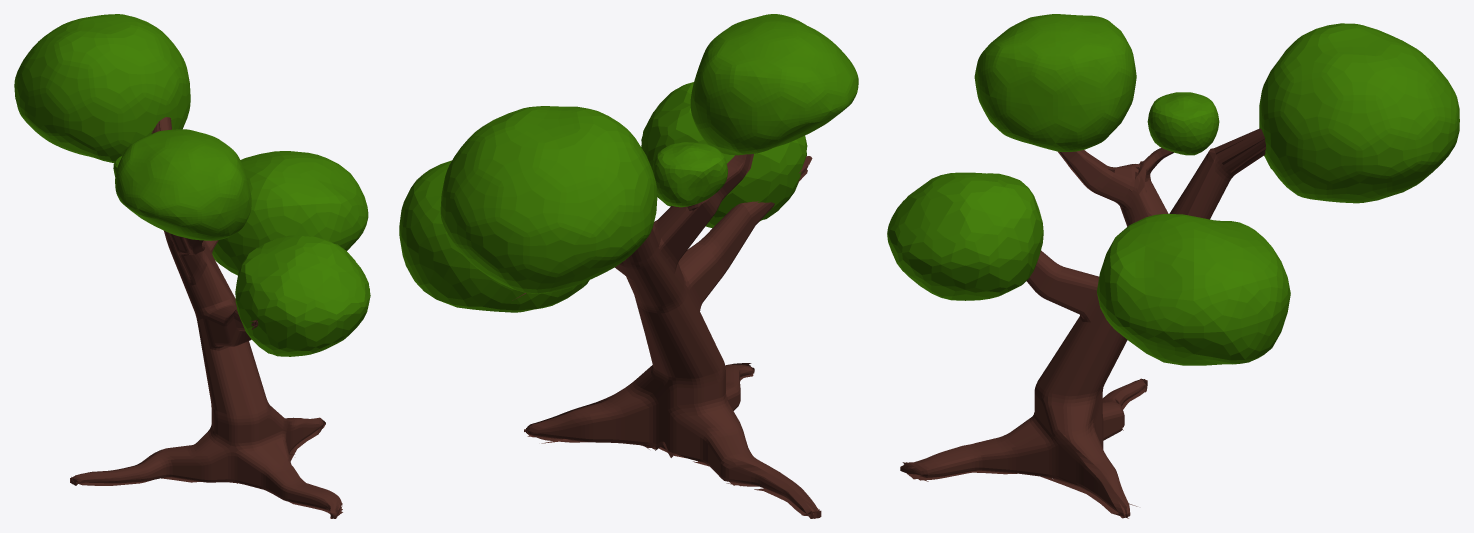
The model's file is arbol_estilizado.fbx.
The picture shows the model from 3 angles, left to right: view 1: azimuth 30°, elevation 25°; view 2: azimuth 150°, elevation 25°; view 3: azimuth 270°, elevation 25°; orthographic projection. The views are drawn at different scales.
Visible parts, largest first — view 1: Circle, Icosphere.004, Icosphere, Icosphere.001, Icosphere.003; view 2: Icosphere.004, Circle, Icosphere.001, Icosphere.003, Icosphere, Icosphere.002; view 3: Circle, Icosphere.004, Icosphere.003, Icosphere.001, Icosphere, Icosphere.002.
Part boxes in pixels (box(x1,y1,x2,y2)): Circle: box(70, 117, 342, 518); Icosphere.004: box(14, 14, 190, 162); Icosphere: box(235, 235, 370, 356); Icosphere.001: box(115, 129, 251, 240); Icosphere.003: box(212, 151, 368, 275); Icosphere.004: box(440, 106, 657, 293); Circle: box(512, 154, 821, 518); Icosphere.001: box(690, 14, 858, 155); Icosphere.003: box(399, 160, 589, 312); Icosphere: box(641, 82, 807, 228); Icosphere.002: box(652, 142, 727, 207); Circle: box(900, 128, 1266, 518); Icosphere.004: box(1259, 23, 1459, 203); Icosphere.003: box(1097, 214, 1290, 365); Icosphere.001: box(974, 14, 1136, 151); Icosphere: box(887, 172, 1043, 300); Icosphere.002: box(1147, 92, 1219, 155).
Size of the model in its own units: 1153 by 1296 by 1613.
